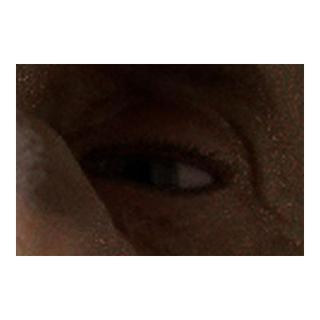pupil: (123, 162, 156, 195)
